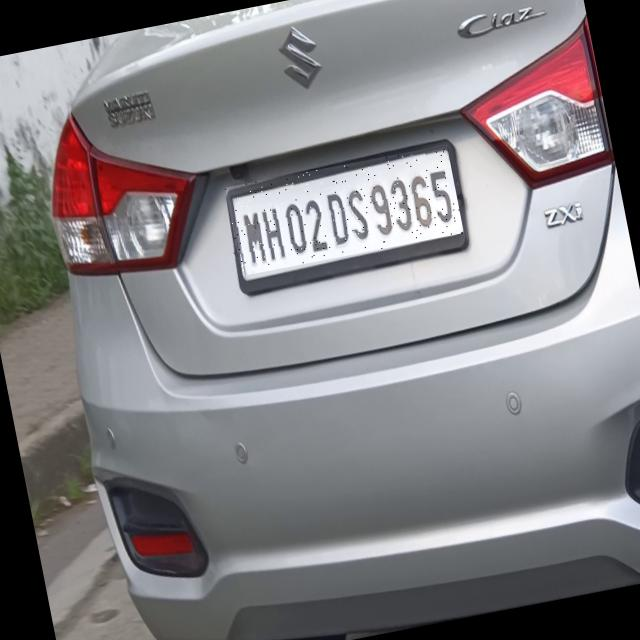Plate: (226, 146, 465, 277)
